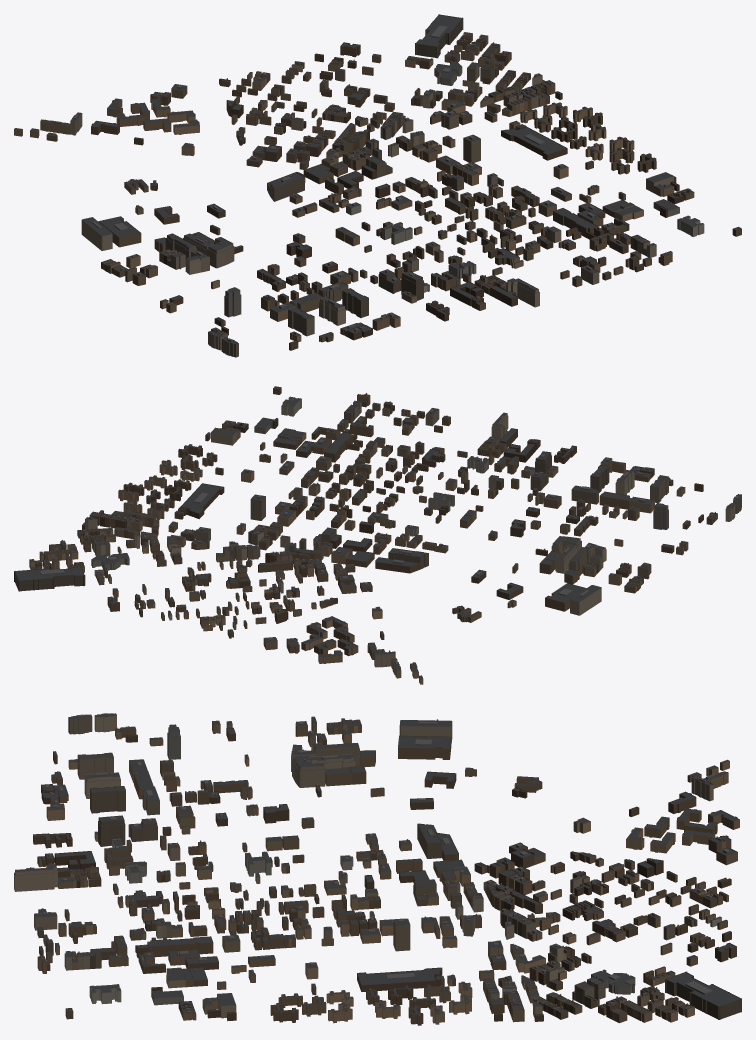
The model's file is manhattan_+00_-07.glb.
The picture shows the model from 3 angles, top to bottom: view 1: azimuth 30°, elevation 25°; view 2: azimuth 150°, elevation 25°; view 3: azimuth 270°, elevation 25°; orthographic projection. The views are drawn at different scales.
Parts seen in each view (by area): view 1: BLD_lowrise_+00_-07, BLD_midrise_+00_-07; view 2: BLD_lowrise_+00_-07, BLD_midrise_+00_-07; view 3: BLD_lowrise_+00_-07, BLD_midrise_+00_-07.
Part boxes in pixels (x1,y1,x2,y2): BLD_lowrise_+00_-07: (14, 32, 741, 350); BLD_midrise_+00_-07: (70, 14, 673, 357); BLD_lowrise_+00_-07: (29, 386, 717, 684); BLD_midrise_+00_-07: (14, 400, 741, 667); BLD_lowrise_+00_-07: (33, 718, 739, 1025); BLD_midrise_+00_-07: (14, 713, 741, 1019).
Size of the model in its own units: 1434 by 62.74 by 1475.
